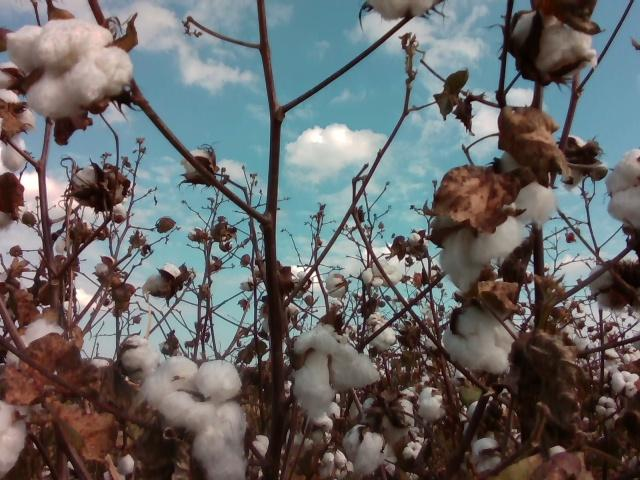cotton_ready: (438, 157, 560, 293), (141, 352, 249, 480), (5, 19, 135, 120), (0, 320, 68, 480), (291, 328, 381, 418), (512, 9, 599, 74), (442, 311, 528, 372), (0, 88, 35, 168), (608, 148, 640, 227), (366, 0, 436, 21), (68, 165, 106, 198), (180, 149, 212, 178)
